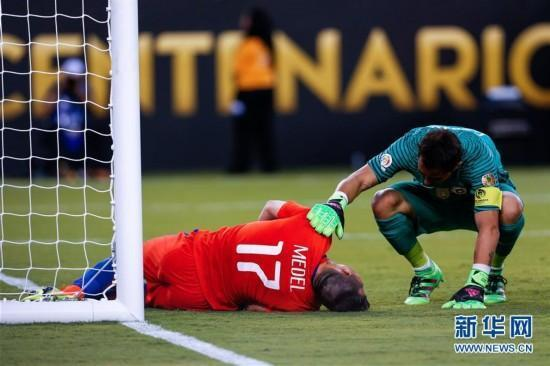Fall-Detected: (0, 2, 124, 169)
